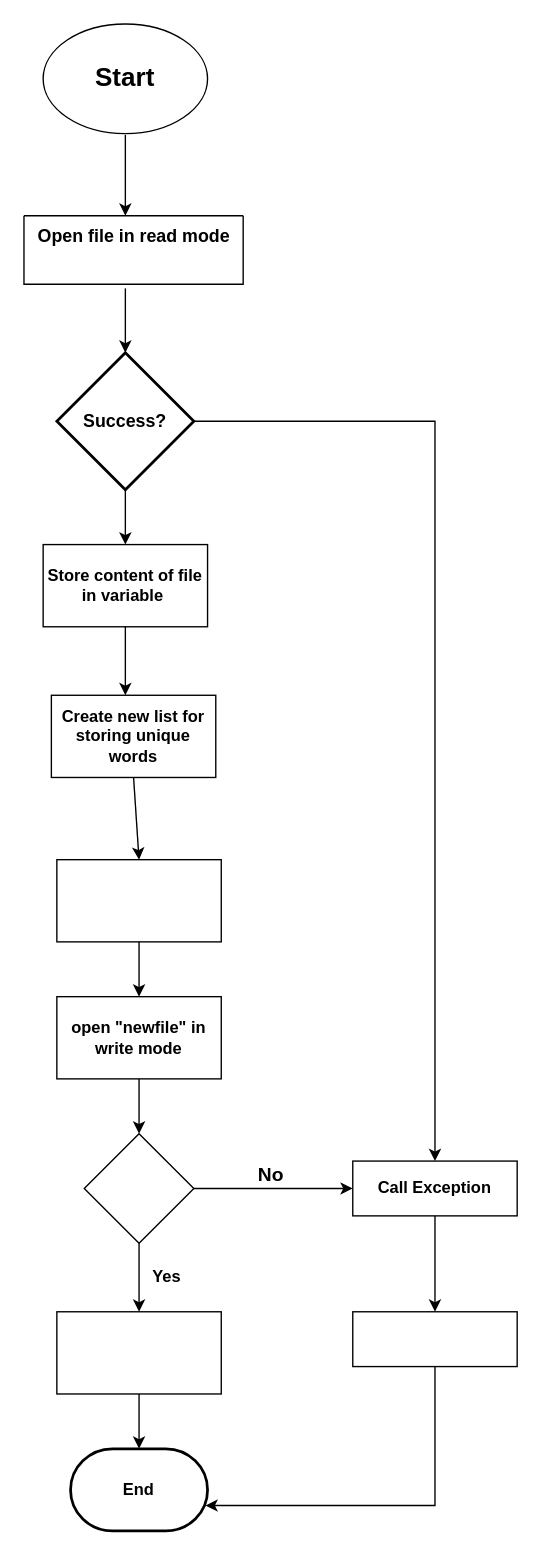
Image size: 541x1556. Some labels were removed from this diagram. The centre of each missing label's shape, as x and y in pixels:
Iterate through list and send words along with lengths to file: the point at 138,1352
Print Error message: the point at 434,1338
Sorted list by set list and sorted based on length: the point at 138,900
Success: the point at 138,1187
